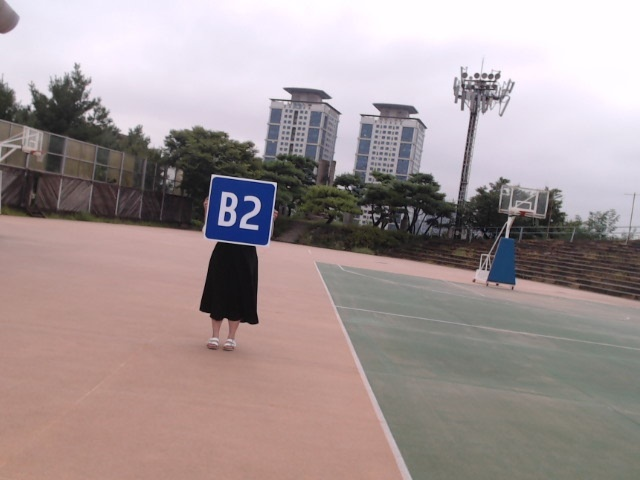delivery_b2: (203, 177, 275, 246)
